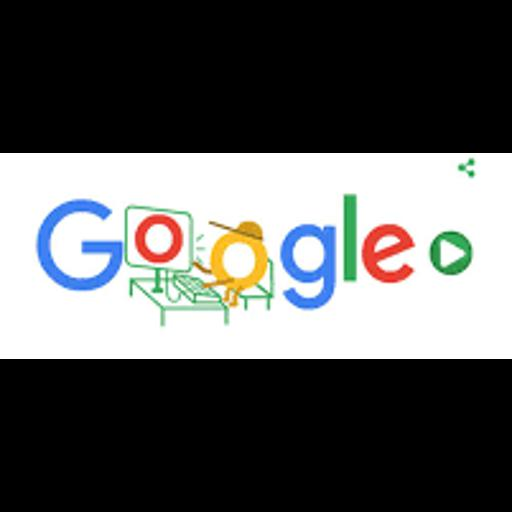Google: (0, 153, 512, 359)
